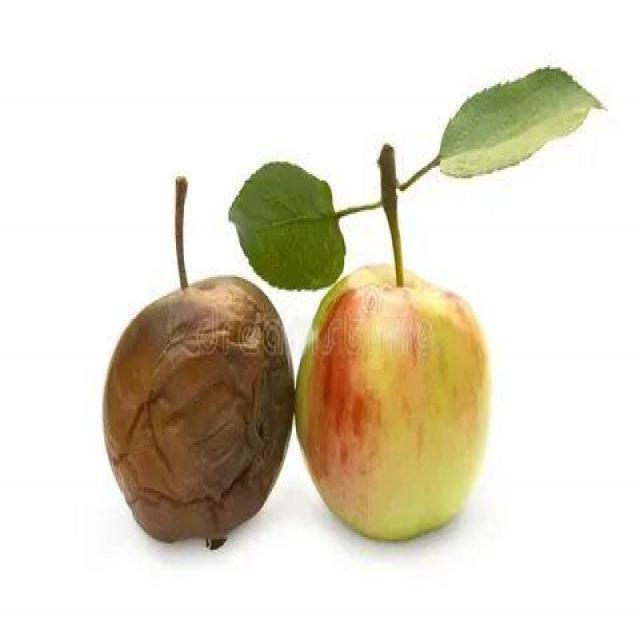Fresh Apple: (300, 273, 487, 530)
Rotten: (103, 285, 285, 538)
